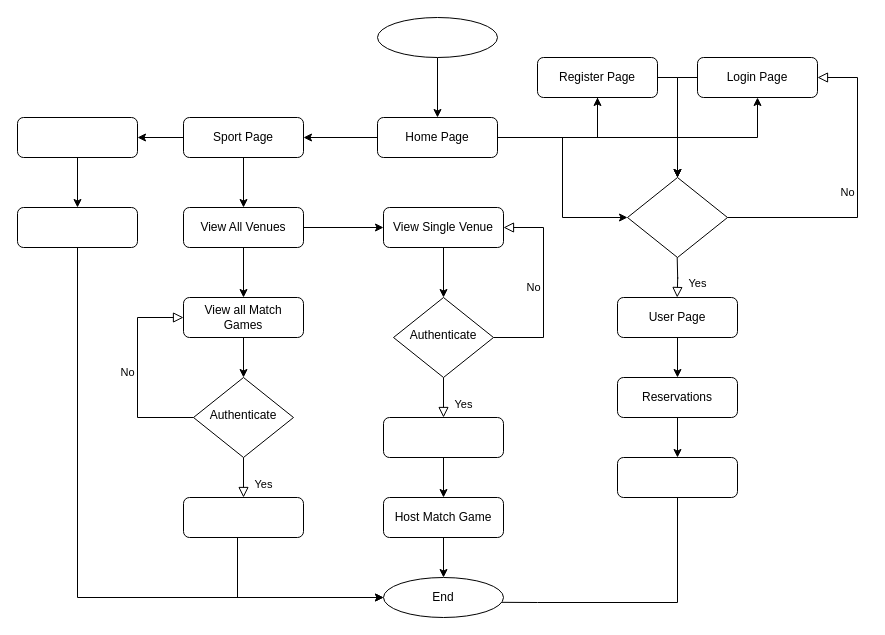
Image size: 885x635. Some labels were removed from this diagram. Here are the shapes that lost their labels. From the top down, the centre of each, then its label:
(x=437, y=37): Start
(x=77, y=137): About Us Page
(x=77, y=227): Policy Page
(x=677, y=217): Success or Authenticate
(x=443, y=437): Reserve Venue
(x=677, y=477): Match Games
(x=243, y=517): Challenge
